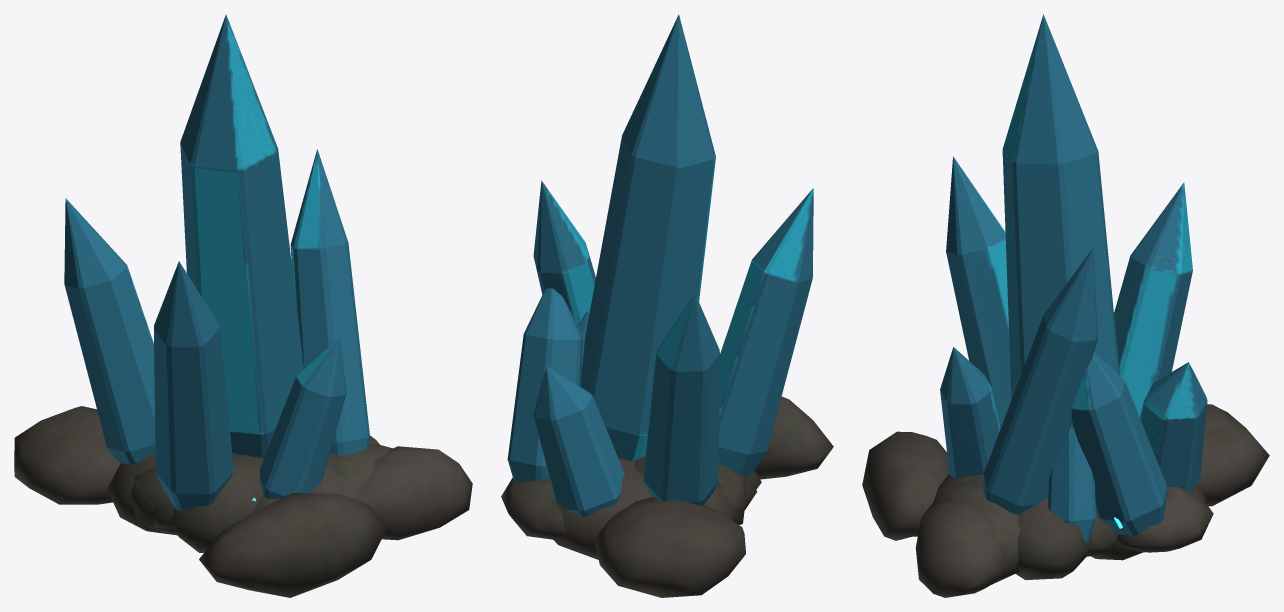
File: crystal.glb
3 renders of one model, left to right at view 1: azimuth 30°, elevation 25°; view 2: azimuth 150°, elevation 25°; view 3: azimuth 270°, elevation 25°, orthographic. The views are drawn at different scales.
Parts seen in each view (by area): view 1: Body_Baked.018; view 2: Body_Baked.018; view 3: Body_Baked.018.
Part boxes in pixels (bbox=[...]): Body_Baked.018: bbox=[14, 14, 472, 597]; Body_Baked.018: bbox=[501, 14, 833, 597]; Body_Baked.018: bbox=[862, 14, 1269, 597].
Size of the model in its own units: 0.8799 by 1.34 by 0.949.
2 materials, 1 textured.
